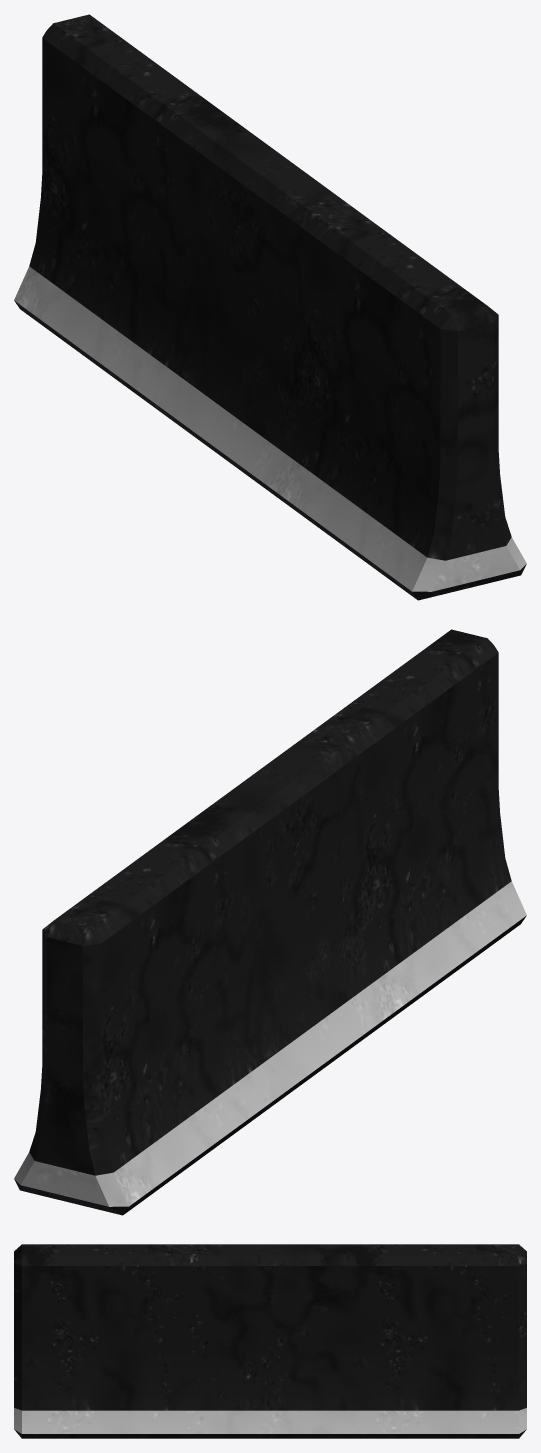
File: Barricade black.fbx
The picture shows the model from 3 angles, top to bottom: view 1: azimuth 30°, elevation 25°; view 2: azimuth 150°, elevation 25°; view 3: azimuth 270°, elevation 25°; orthographic projection. The views are drawn at different scales.
Visible parts, largest first — view 1: Cube; view 2: Cube; view 3: Cube.
Boxes of the visible parts, left/top/right/bottom form: Cube: left=14, top=14, right=526, bottom=600; Cube: left=14, top=629, right=526, bottom=1215; Cube: left=14, top=1244, right=526, bottom=1438.
Size of the model in its own units: 82.98 by 192 by 514.
